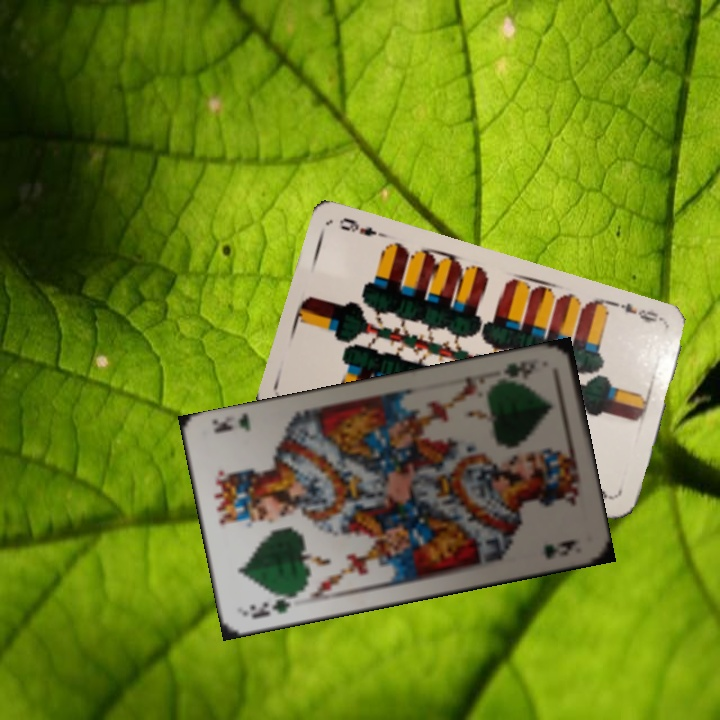E9: (610, 298, 668, 327)
GK: (245, 589, 300, 622), (500, 353, 538, 381)
